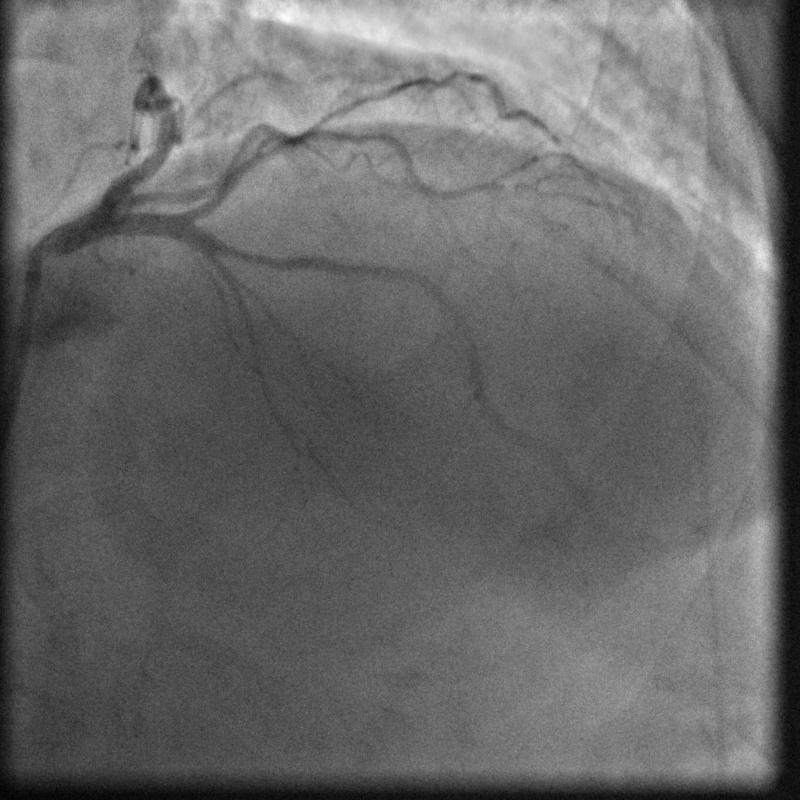Stenosis: (224, 230, 286, 272)
